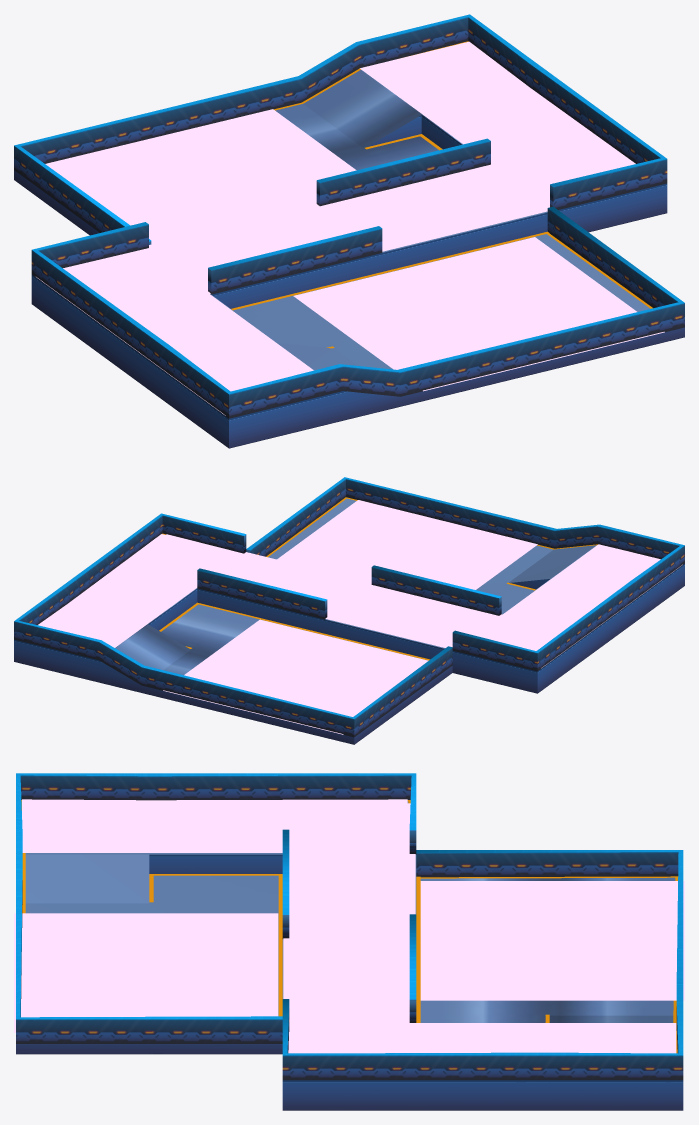
Rendered from Battle_Stage 14.fbx.
3 renders of one model, top to bottom at view 1: azimuth 30°, elevation 25°; view 2: azimuth 150°, elevation 25°; view 3: azimuth 270°, elevation 25°, orthographic. The views are drawn at different scales.
Visible parts, largest first — view 1: DB_Platform_Cube.001, DB_Platform_Cube, Plane.061, Plane.062, Plane.064, Plane.063, Plane.065, DB_Platform_Cube.002; view 2: DB_Platform_Cube.001, DB_Platform_Cube, Plane.062, Plane.061, Plane.064, Plane.063, Plane.065, DB_Platform_Cube.002; view 3: DB_Platform_Cube.001, DB_Platform_Cube, Plane.062, Plane.064, Plane.061, Plane.065, Plane.063, DB_Platform_Cube.002.
Boxes of the visible parts, x1,y1,x2,y2 form: DB_Platform_Cube.001: [14, 14, 684, 418]; DB_Platform_Cube: [14, 69, 684, 448]; Plane.061: [293, 237, 664, 391]; Plane.062: [45, 109, 356, 244]; Plane.064: [63, 149, 629, 313]; Plane.063: [360, 41, 635, 204]; Plane.065: [36, 249, 313, 415]; DB_Platform_Cube.002: [231, 41, 652, 348]; DB_Platform_Cube.001: [14, 477, 684, 737]; DB_Platform_Cube: [14, 498, 684, 744]; Plane.062: [163, 619, 428, 734]; Plane.061: [277, 500, 537, 589]; Plane.064: [122, 534, 560, 649]; Plane.063: [38, 534, 242, 647]; Plane.065: [474, 544, 682, 668]; DB_Platform_Cube.002: [159, 497, 597, 660]; DB_Platform_Cube.001: [16, 773, 683, 1080]; DB_Platform_Cube: [16, 801, 683, 1110]; Plane.062: [420, 881, 684, 1000]; Plane.064: [283, 803, 415, 1053]; Plane.061: [14, 913, 278, 1032]; Plane.065: [22, 799, 407, 852]; Plane.063: [290, 1023, 676, 1053]; DB_Platform_Cube.002: [21, 800, 678, 1053].
Size of the model in its own units: 6005 by 547 by 6032.
